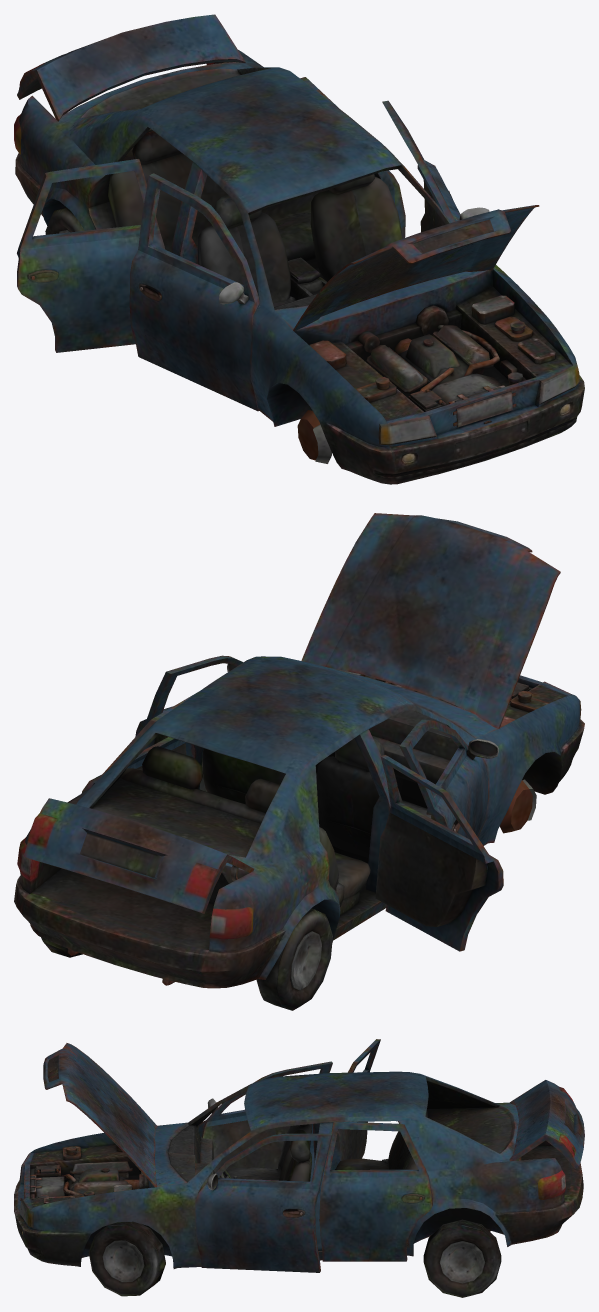
3 views of the same model, one above another, from view 1: azimuth 30°, elevation 25°; view 2: azimuth 150°, elevation 25°; view 3: azimuth 270°, elevation 25° (orthographic). The views are drawn at different scales.
Visible parts, largest first — view 1: KUZA_0, Seats.001_6, ON QAPI_2, ARXA QAPI_3, Engine.001_8, BAQAJ_4, KAPOT_1, ON QAPI.001_12, SALON_5, TEKER.002_15, TEKER.003_11; view 2: KUZA_0, KAPOT_1, Seats.001_6, ARXA QAPI_3, BAQAJ_4, ON QAPI_2, TEKER.003_11, SALON_5, ON QAPI.001_12, TEKER.002_15, ARXA QAPI.001_13, Engine.001_8; view 3: KUZA_0, ON QAPI.001_12, ARXA QAPI.001_13, KAPOT_1, TEKER.001_14, TEKER.004_10, BAQAJ_4, ON QAPI_2, Engine.001_8, Seats.001_6, SALON_5, ARXA QAPI_3.
Boxes of the visible parts, <box> form: KUZA_0: <box>14,50,584,484</box>; Seats.001_6: <box>108,129,402,306</box>; ON QAPI_2: <box>129,173,259,411</box>; ARXA QAPI_3: <box>17,159,165,352</box>; Engine.001_8: <box>309,295,555,411</box>; BAQAJ_4: <box>17,14,245,121</box>; KAPOT_1: <box>293,205,539,331</box>; ON QAPI.001_12: <box>382,100,489,232</box>; SALON_5: <box>274,257,326,309</box>; TEKER.002_15: <box>297,410,331,463</box>; TEKER.003_11: <box>45,207,84,234</box>; KUZA_0: <box>14,656,584,988</box>; KAPOT_1: <box>301,513,560,728</box>; Seats.001_6: <box>120,737,431,915</box>; ARXA QAPI_3: <box>375,755,503,951</box>; BAQAJ_4: <box>23,798,253,913</box>; ON QAPI_2: <box>399,719,498,838</box>; TEKER.003_11: <box>256,908,332,1010</box>; SALON_5: <box>319,710,458,826</box>; ON QAPI.001_12: <box>135,655,243,791</box>; TEKER.002_15: <box>499,779,536,833</box>; ARXA QAPI.001_13: <box>81,692,197,793</box>; Engine.001_8: <box>333,668,549,727</box>; KUZA_0: <box>14,1071,583,1268</box>; ON QAPI.001_12: <box>195,1133,332,1272</box>; ARXA QAPI.001_13: <box>319,1122,432,1261</box>; KAPOT_1: <box>43,1043,157,1187</box>; TEKER.001_14: <box>423,1219,501,1297</box>; TEKER.004_10: <box>88,1221,165,1296</box>; BAQAJ_4: <box>509,1080,584,1168</box>; ON QAPI_2: <box>198,1061,332,1181</box>; Engine.001_8: <box>35,1145,148,1203</box>; Seats.001_6: <box>223,1109,428,1181</box>; SALON_5: <box>168,1124,237,1192</box>; ARXA QAPI_3: <box>330,1039,380,1169</box>.
Size of the model in its own units: 12.73 by 7.76 by 21.34.
Materials: 1 (1 with a texture image).
